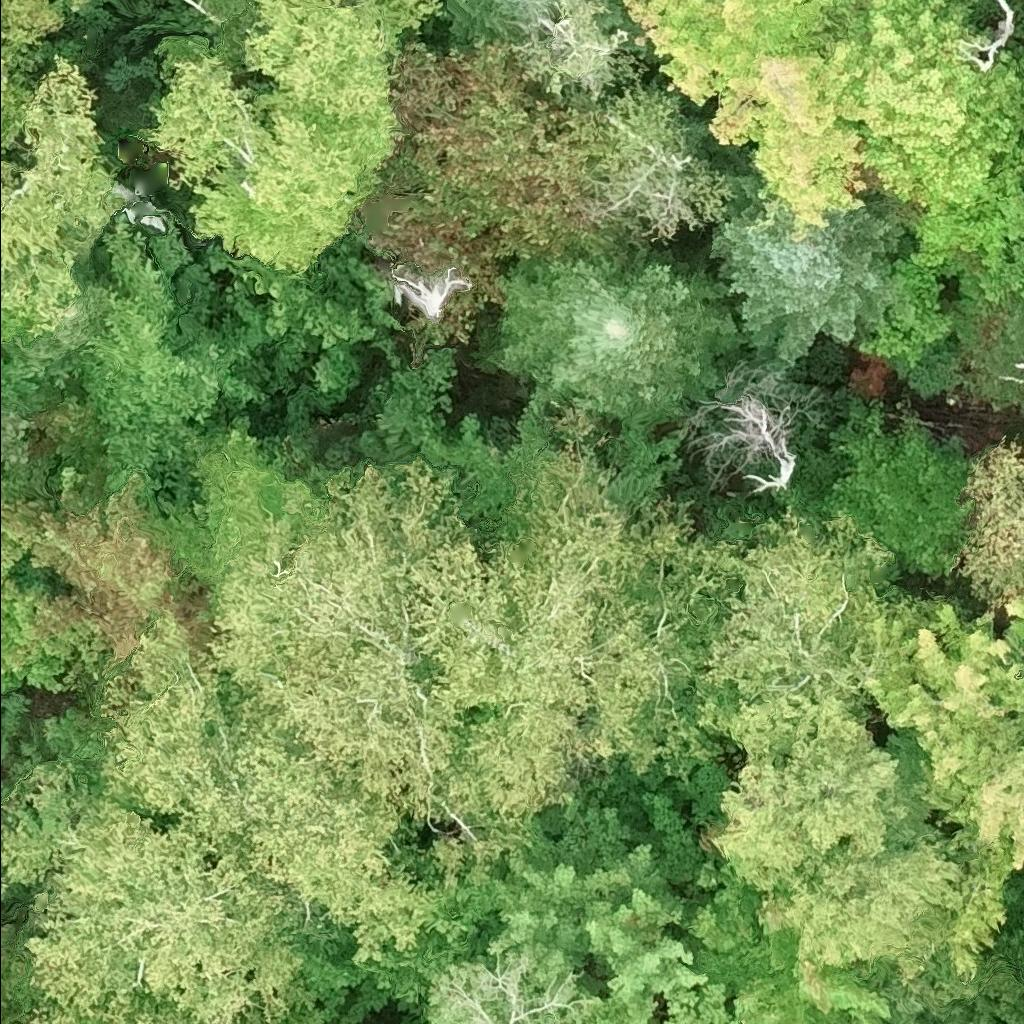crown: (432, 397, 716, 835), (107, 609, 454, 959), (216, 457, 479, 823), (0, 760, 317, 1023), (151, 0, 443, 269), (716, 723, 964, 1002), (624, 0, 866, 242), (676, 507, 899, 760), (486, 841, 772, 1023), (831, 0, 1023, 264), (0, 466, 198, 694), (870, 588, 1023, 864), (496, 255, 745, 423), (709, 169, 908, 367), (0, 55, 125, 327), (690, 862, 891, 1023), (818, 409, 976, 575), (593, 88, 734, 235), (505, 0, 647, 96), (703, 379, 810, 498), (0, 0, 81, 144), (960, 442, 1023, 605), (427, 961, 581, 1023), (450, 0, 555, 40), (605, 0, 635, 31), (0, 926, 13, 981)
